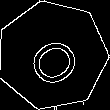O_NE: (19, 23, 86, 88)
